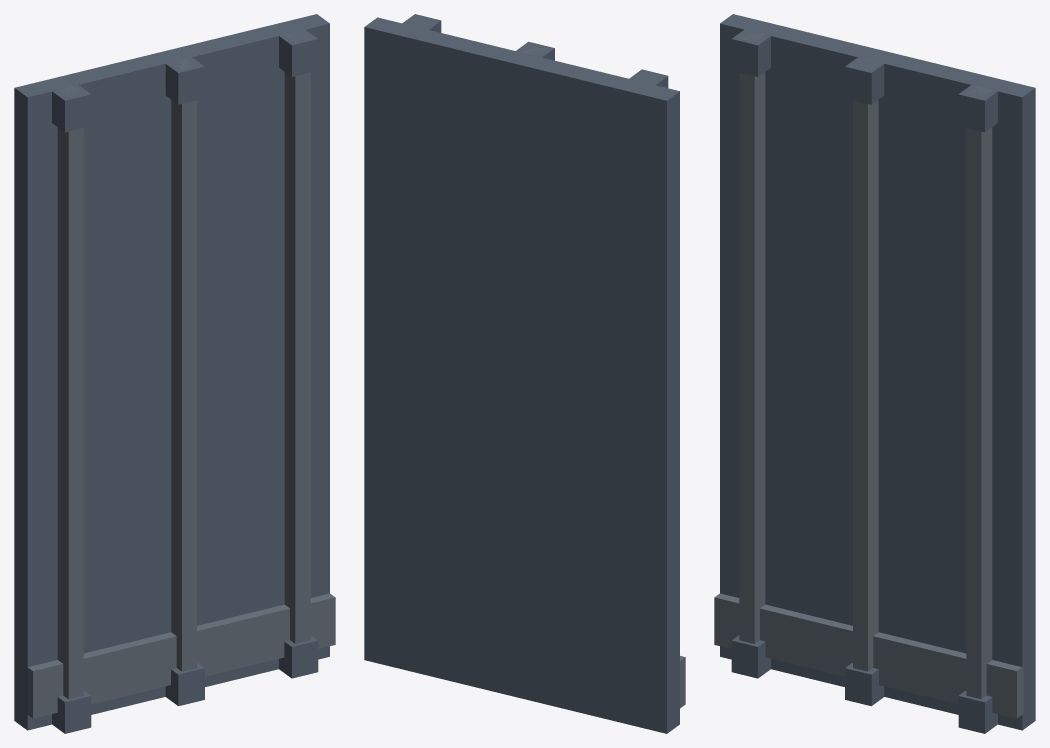
The model's file is Lab_Wall_A.fbx.
The picture shows the model from 3 angles, left to right: view 1: azimuth 30°, elevation 25°; view 2: azimuth 150°, elevation 25°; view 3: azimuth 330°, elevation 25°; orthographic projection.
Parts seen in each view (by area): view 1: Lab_Wall_A; view 2: Lab_Wall_A; view 3: Lab_Wall_A.
Boxes of the visible parts, bbox=[...] form: Lab_Wall_A: bbox=[14, 14, 335, 733]; Lab_Wall_A: bbox=[364, 14, 685, 733]; Lab_Wall_A: bbox=[714, 14, 1035, 733].
Bounding box in the file's own units: 4 × 8 × 0.595.
